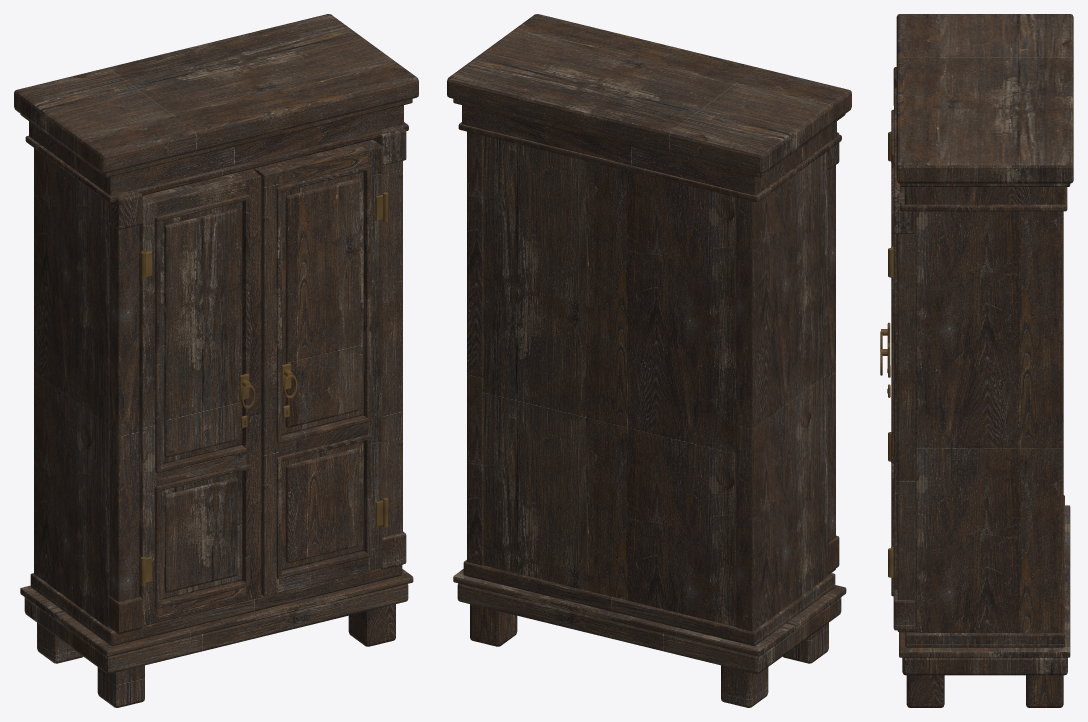
File: Closet.fbx
The picture shows the model from 3 angles, left to right: view 1: azimuth 30°, elevation 25°; view 2: azimuth 150°, elevation 25°; view 3: azimuth 270°, elevation 25°; orthographic projection.
Parts seen in each view (by area): view 1: EXPORT_Closet; view 2: EXPORT_Closet; view 3: EXPORT_Closet.
Boxes of the visible parts, <box> form: EXPORT_Closet: <box>14,14,418,707</box>; EXPORT_Closet: <box>447,14,851,707</box>; EXPORT_Closet: <box>880,14,1073,707</box>.
Bounding box in the file's own units: 124 × 210 × 66.63.
2 materials, 2 textured.
